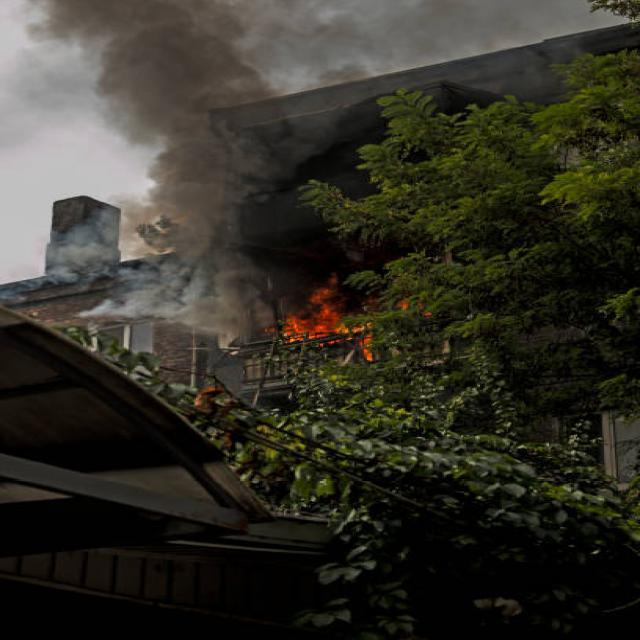Fire: (272, 284, 426, 359)
Smoke: (55, 0, 282, 345)
